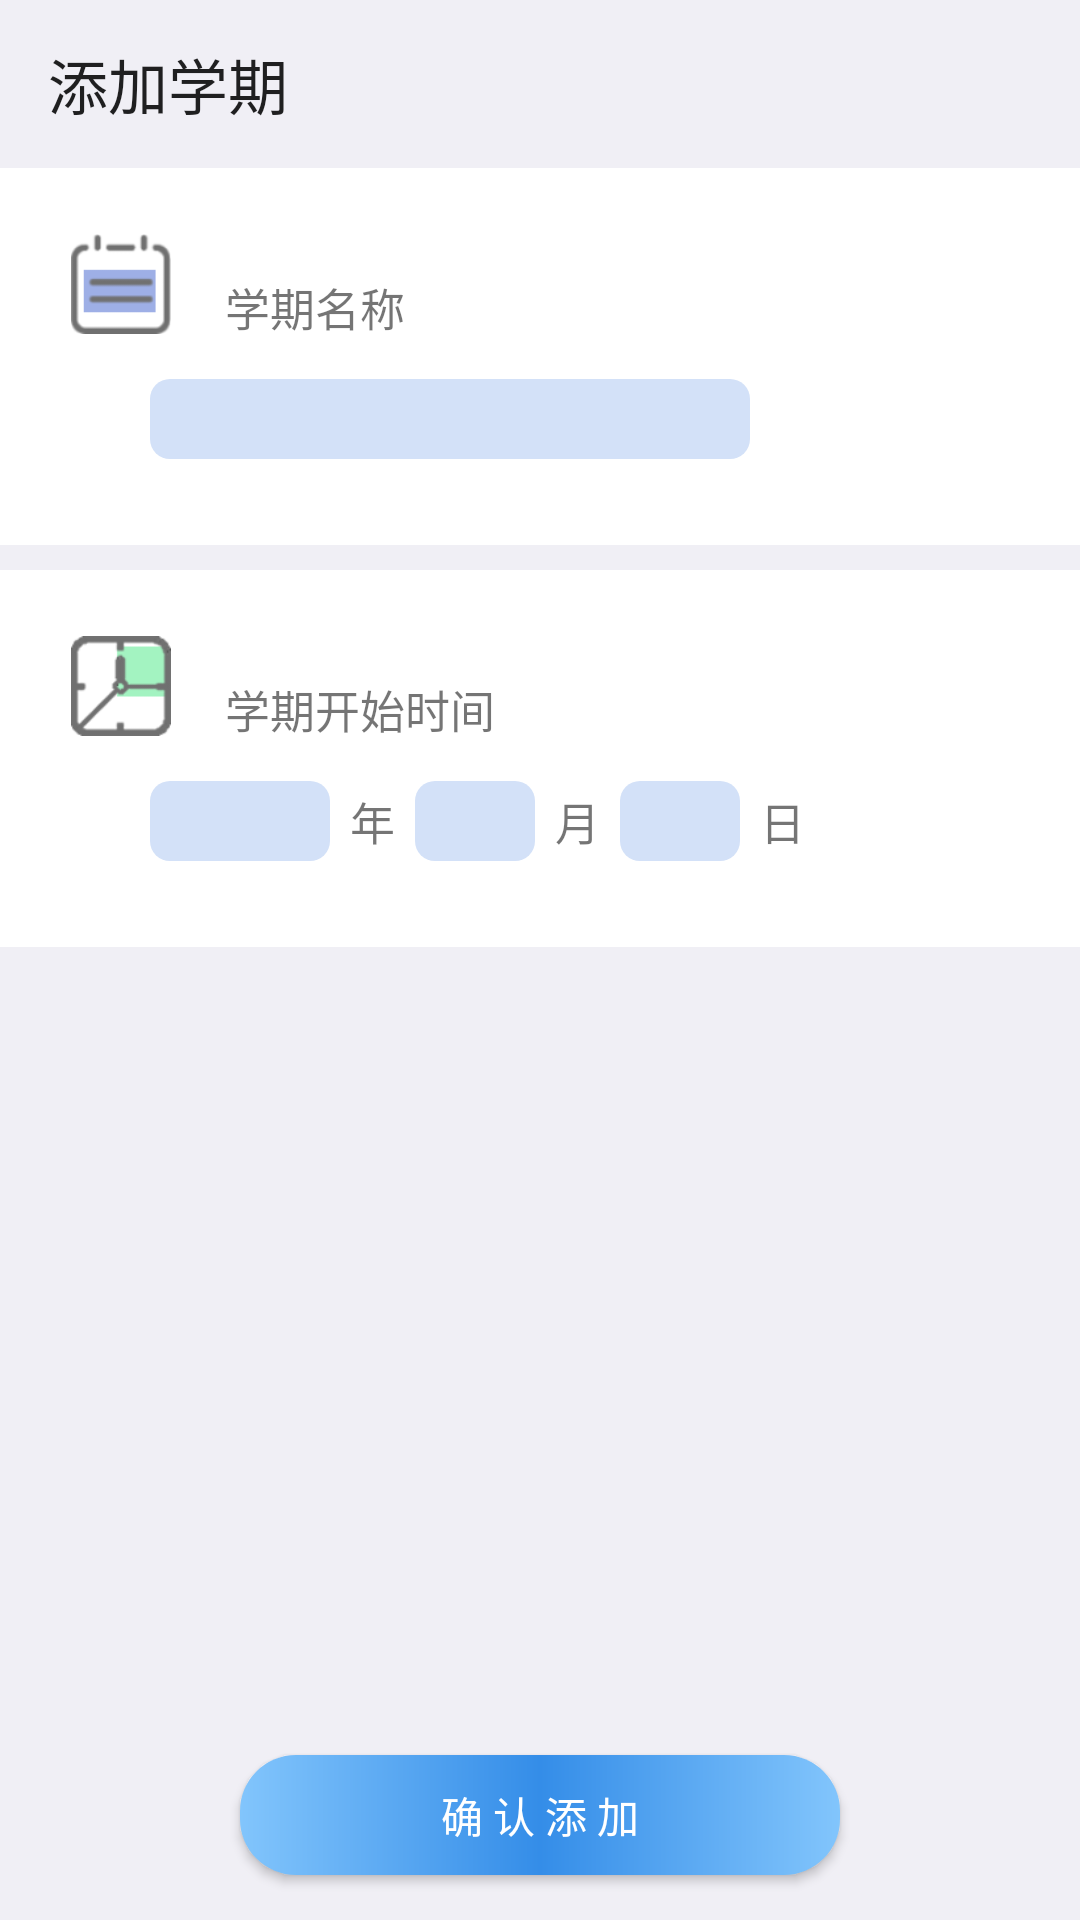

Point at icon controls on the screen. Image size 1080×1920, points as (x,y).
coursedate: (121,284)
